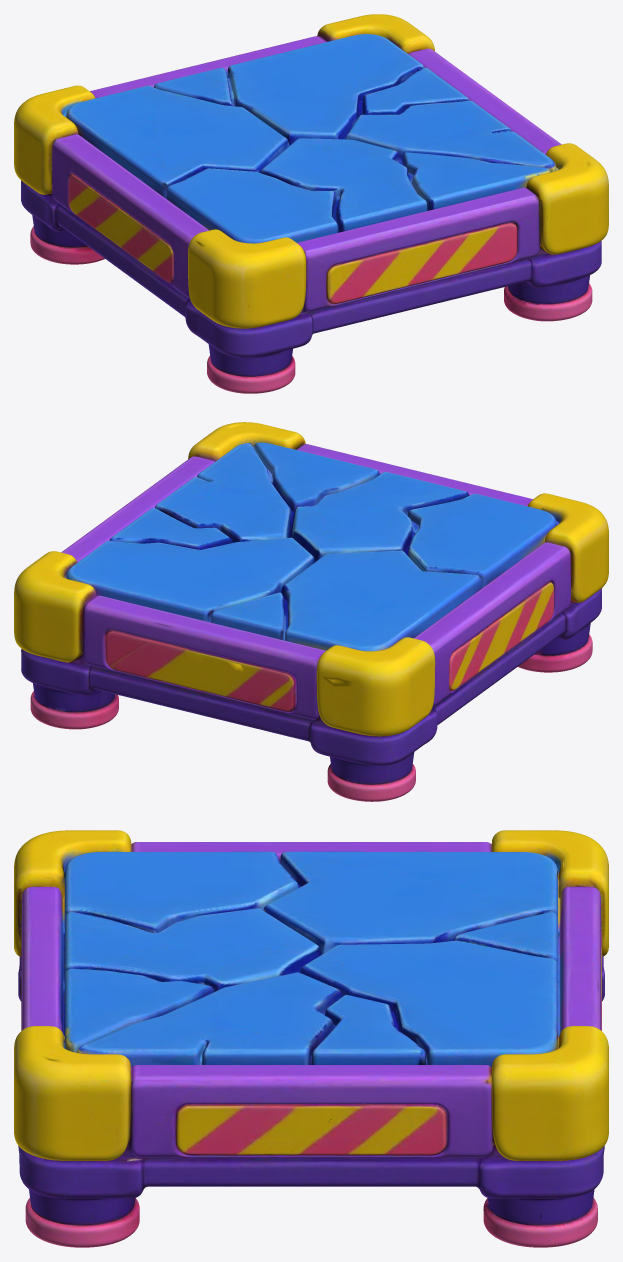
The model's file is model-10-platform.glb.
3 views of the same model, one above another, from view 1: azimuth 30°, elevation 25°; view 2: azimuth 150°, elevation 25°; view 3: azimuth 270°, elevation 25° (orthographic). The views are drawn at different scales.
Parts seen in each view (by area): view 1: node_0; view 2: node_0; view 3: node_0.
Boxes of the visible parts, bbox=[...] form: node_0: bbox=[14, 14, 608, 393]; node_0: bbox=[14, 422, 608, 801]; node_0: bbox=[14, 830, 608, 1247].
Size of the model in its own units: 0.8689 by 0.3005 by 0.8797.
Materials: 1 (1 with a texture image).
